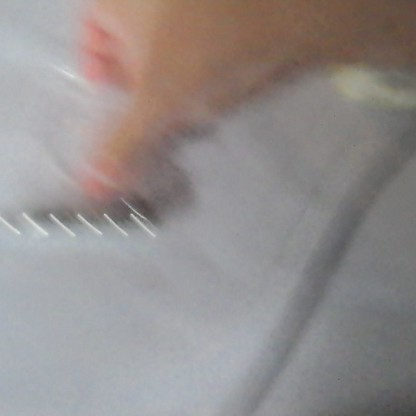ironball: (70, 203, 104, 235), (39, 205, 69, 233), (99, 201, 126, 229), (128, 203, 158, 228), (12, 210, 41, 231), (0, 206, 16, 233)
